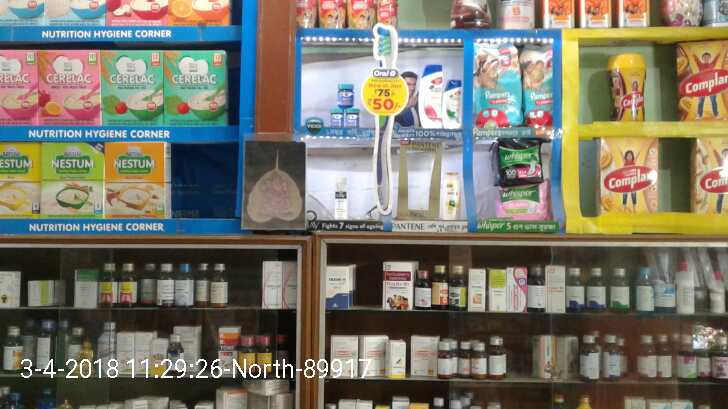vicks: (327, 81, 361, 126)
